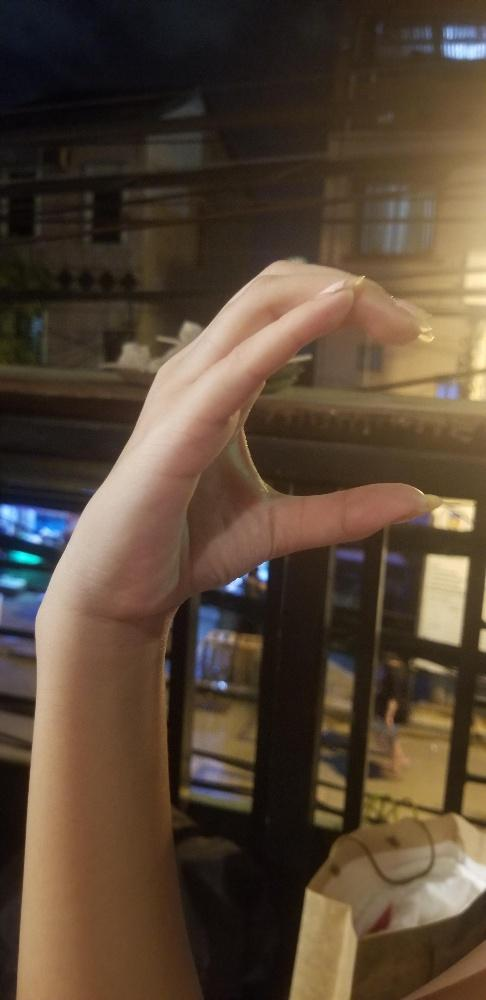c: (71, 253, 446, 636)
